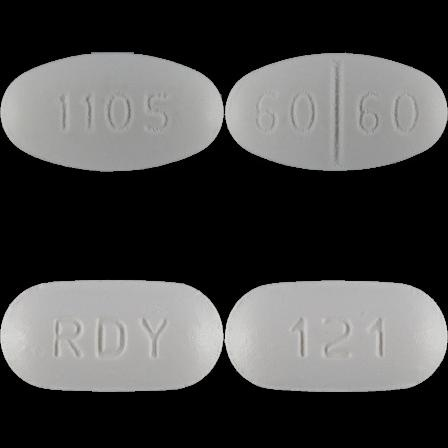0615-7768: (0, 0, 224, 224)
